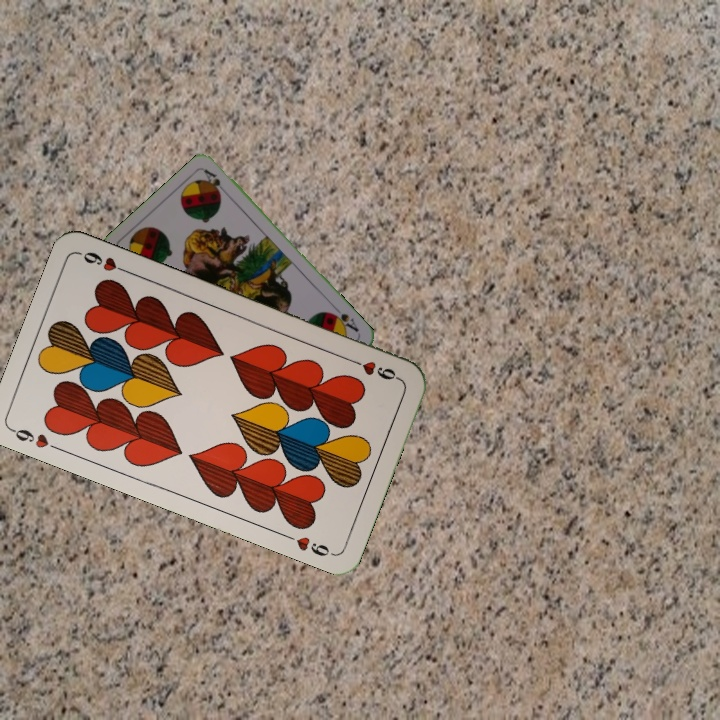H9: (8, 424, 64, 454), (346, 355, 403, 384)
SA: (326, 308, 361, 334)
